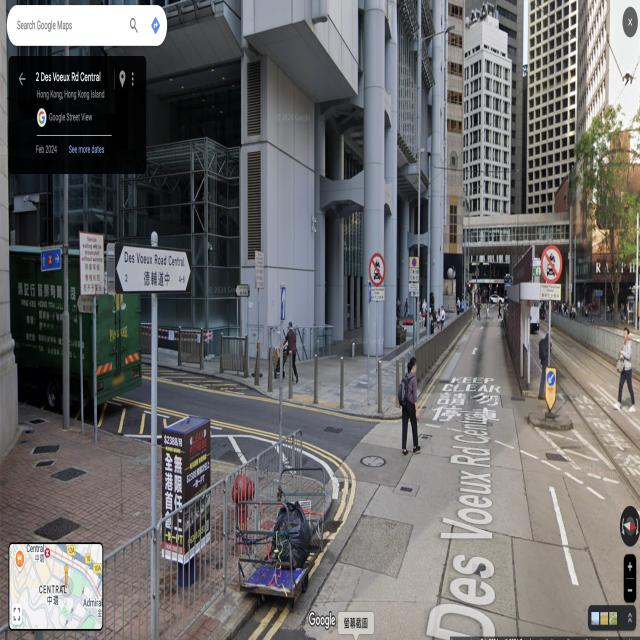Direction-Sign: (41, 248, 62, 271), (368, 282, 371, 301)
Order-Sign: (80, 231, 104, 295), (541, 244, 562, 282), (369, 251, 385, 286), (255, 249, 265, 289), (540, 284, 560, 300), (410, 256, 419, 282), (546, 369, 555, 386), (496, 284, 498, 292)
Street-Direction-Sign: (115, 243, 192, 295), (76, 295, 94, 314), (235, 284, 248, 298)
